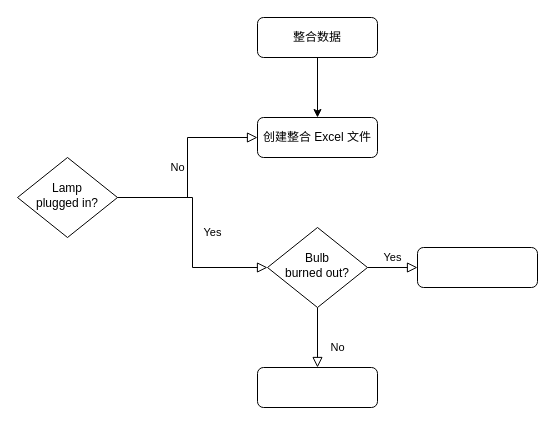
Image size: 555x425. Some labels were removed from this diagram. Here are the shapes that lost their labels. From the top down, the box of each, then its label:
(416, 246, 538, 288): Replace Bulb
(256, 366, 378, 408): Repair Lamp
